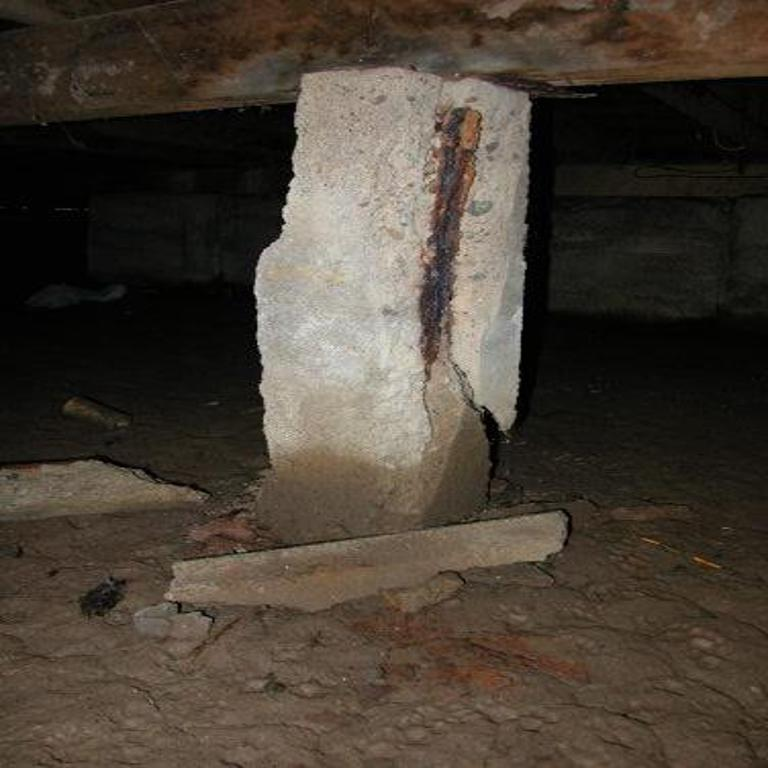crack: (443, 350, 488, 416), (419, 362, 435, 457)
damage: (255, 67, 531, 544)
